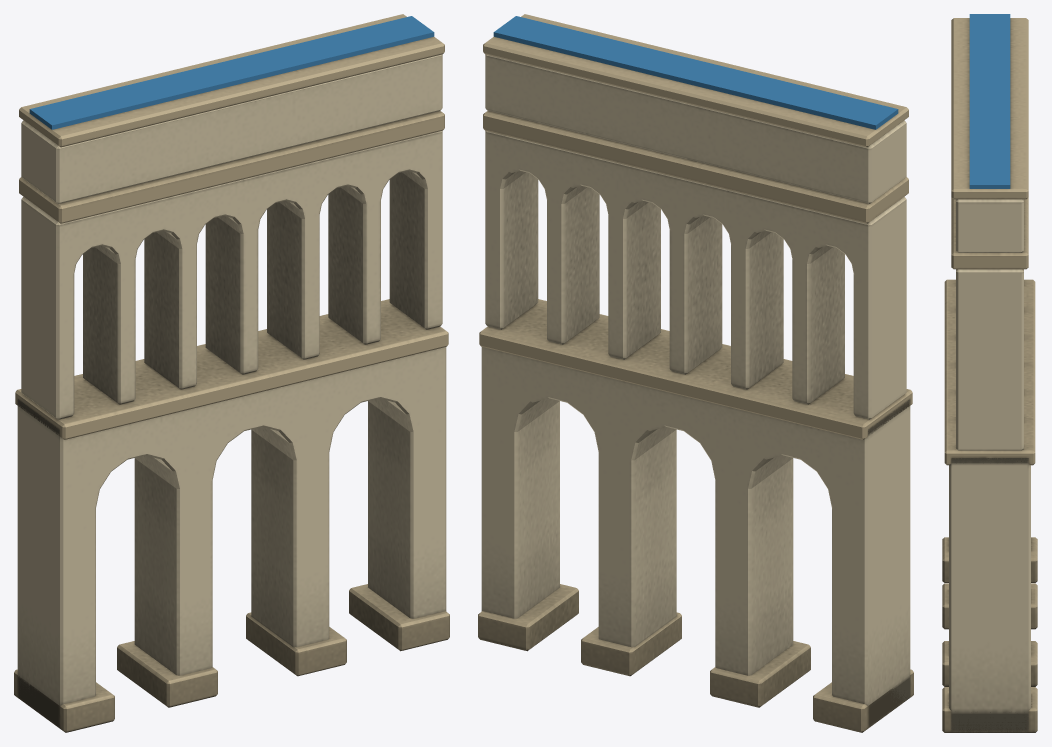
Rendered from akwedukt.glb.
3 renders of one model, left to right at view 1: azimuth 30°, elevation 25°; view 2: azimuth 150°, elevation 25°; view 3: azimuth 270°, elevation 25°, orthographic. The views are drawn at different scales.
Parts seen in each view (by area): view 1: akwedukt, anim_woda_kanal; view 2: akwedukt, anim_woda_kanal; view 3: akwedukt, anim_woda_kanal.
Boxes of the visible parts, bbox=[...] form: akwedukt: bbox=[14, 14, 449, 732]; anim_woda_kanal: bbox=[29, 16, 434, 129]; akwedukt: bbox=[478, 14, 913, 732]; anim_woda_kanal: bbox=[493, 16, 898, 129]; akwedukt: bbox=[942, 18, 1037, 732]; anim_woda_kanal: bbox=[969, 14, 1010, 188].
Bounding box in the file's own units: 1.8 × 2.66 × 0.42.
2 materials, 1 textured.
